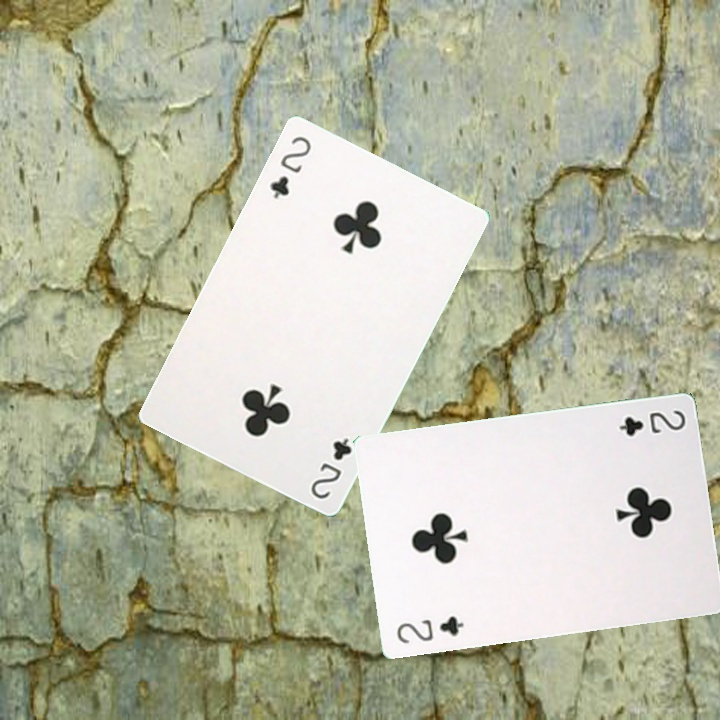2c: (266, 132, 314, 202), (306, 434, 355, 502), (393, 612, 467, 646), (615, 405, 688, 439)
